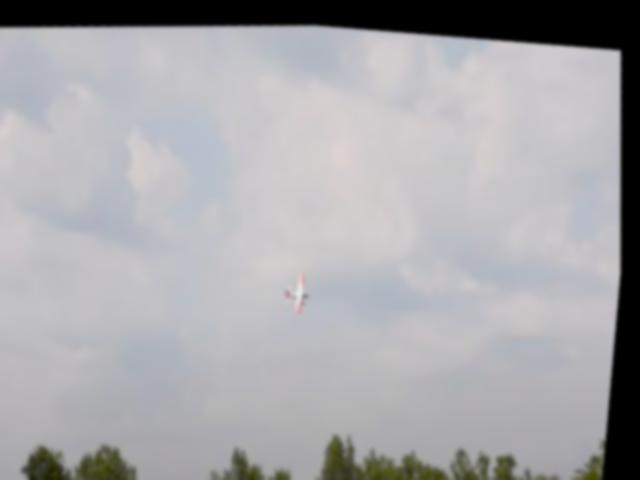uav: (281, 255, 320, 318)
